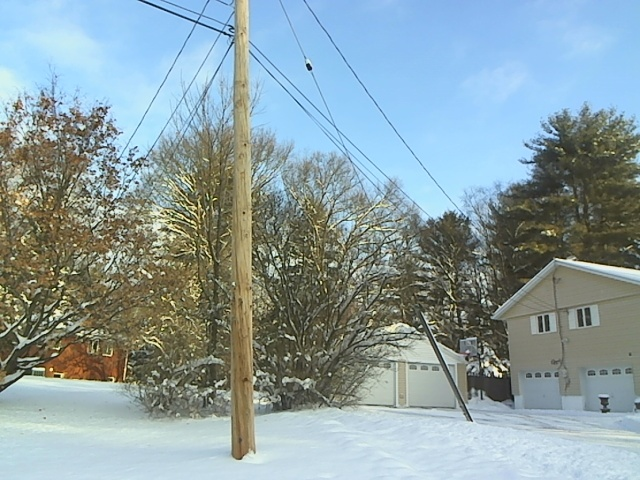Unploughed: (435, 402, 632, 436)
